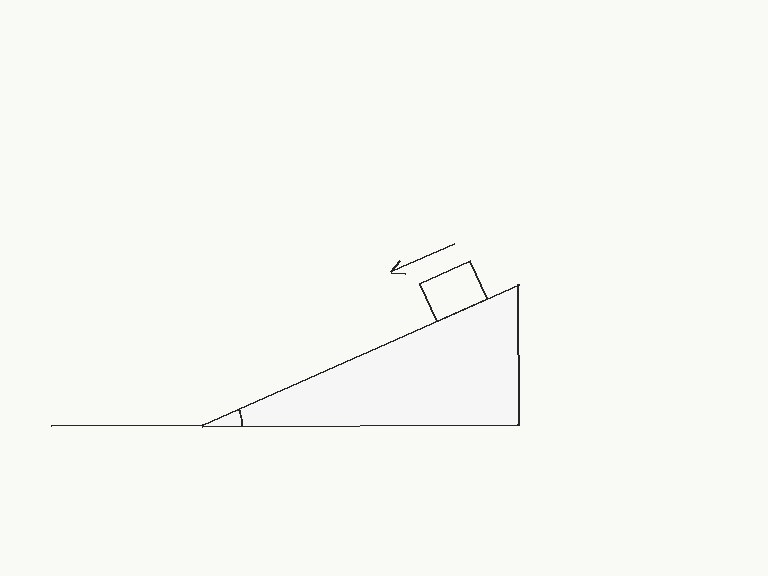block: (417, 259, 489, 323)
ramp: (200, 283, 519, 427)
